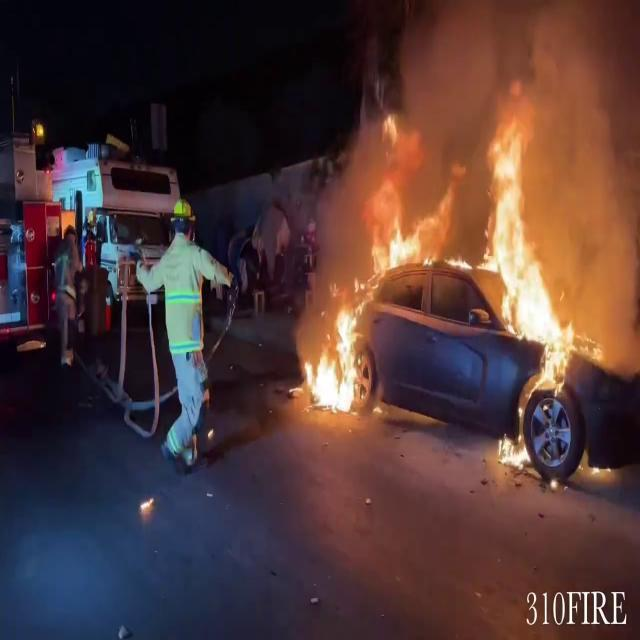Fire: (298, 16, 618, 424), (481, 96, 584, 479), (298, 162, 420, 416)
